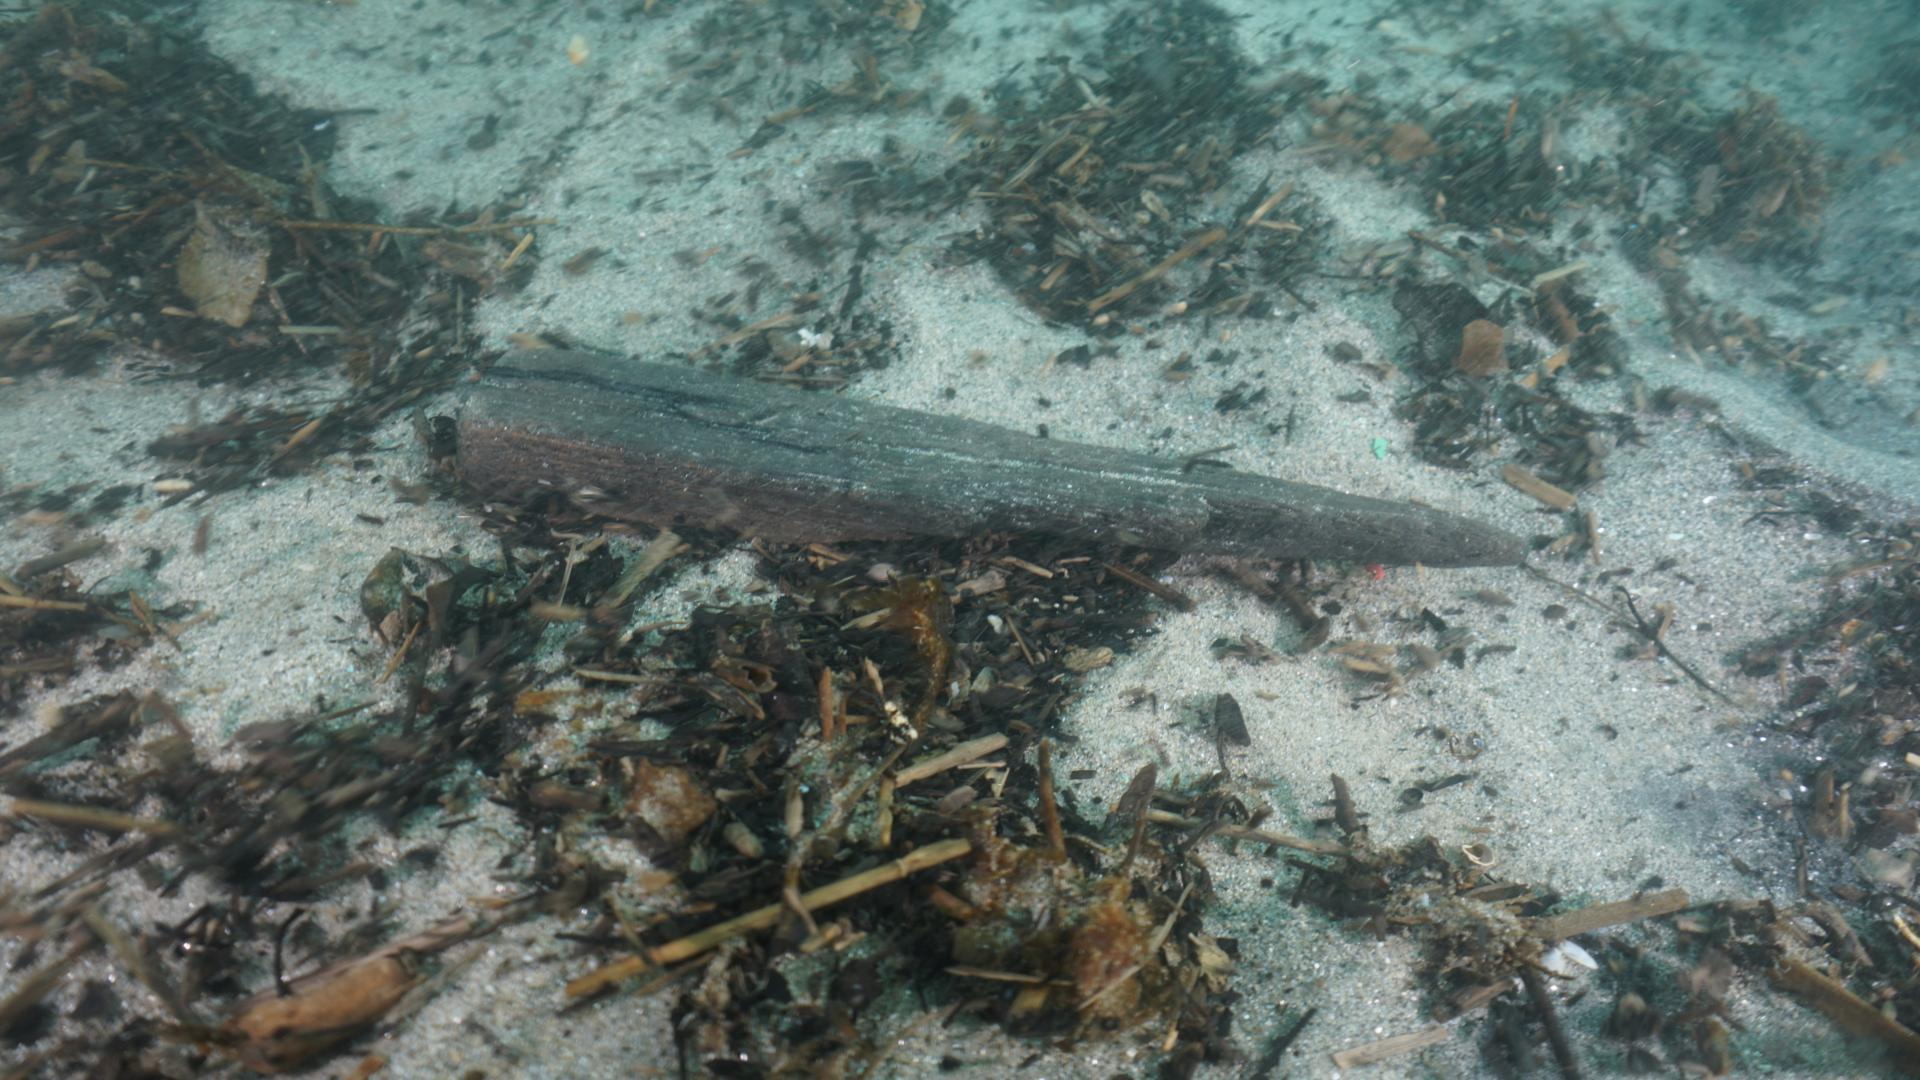wood: (443, 334, 1534, 570)
